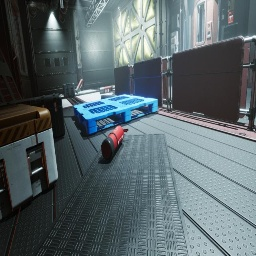0: (60, 0, 64, 8), (75, 89, 81, 93)
EmergencyPhone ,: (227, 0, 235, 12)
FireAlarm ,: (228, 10, 234, 24)
FireExtinguisher ]: (101, 126, 128, 160)
NitrogenTank ,: (75, 78, 84, 94), (99, 86, 113, 94)
SafetySwitchPanel ,: (170, 31, 179, 59)
